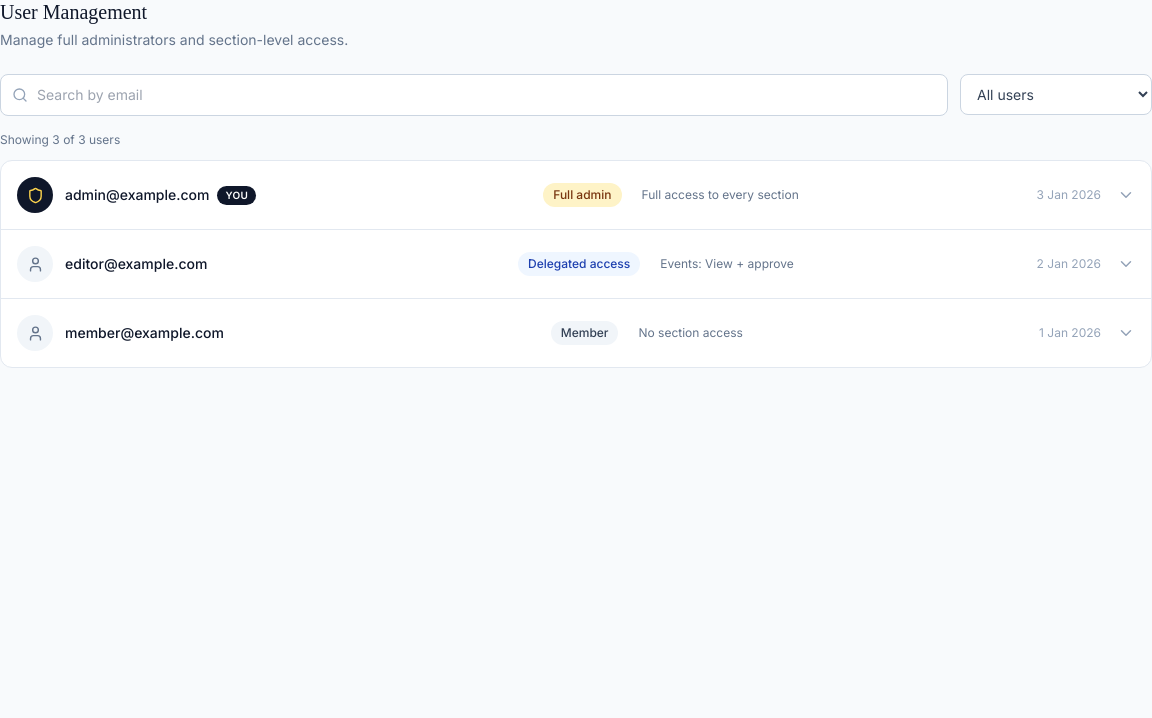
Test: AdminUsersPage › starts with compact rows and keeps only one user expanded
Expected: the text "Roster and officer records" is not shown
Click the button with aria-label "Manage access for editor@example.com" at (576, 264), box [1,230,1151,298]
(page scrolled)
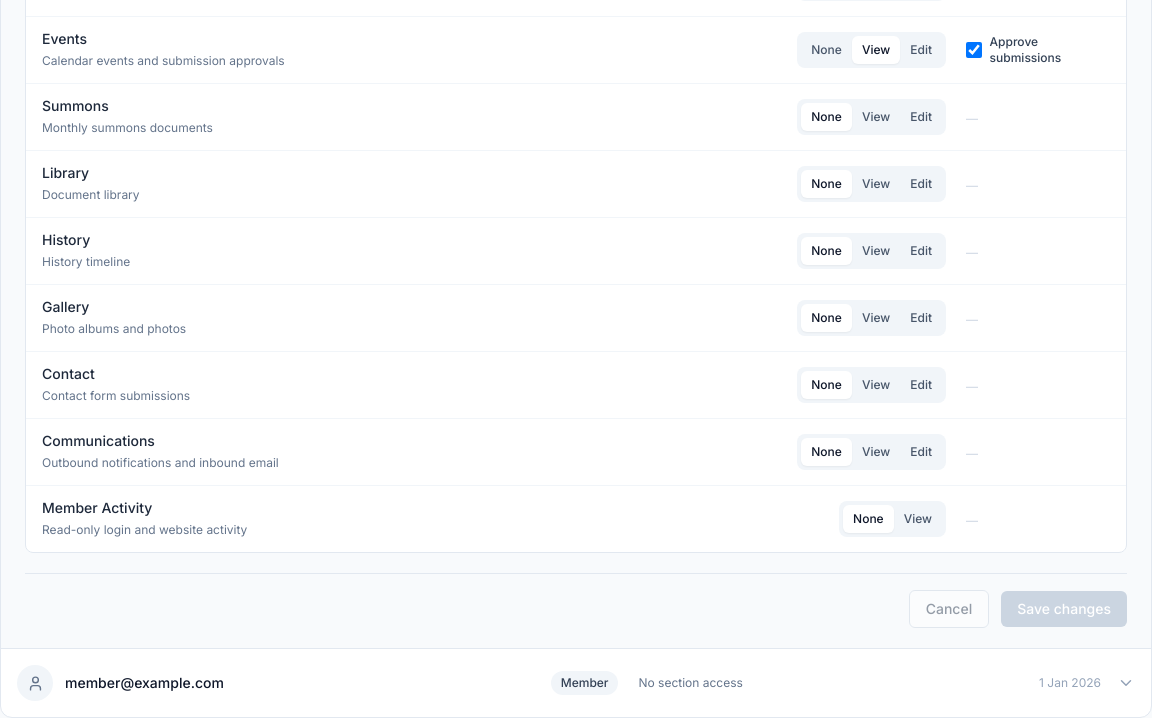
Click the button with aria-label "Manage access for member@example.com" at (576, 683), box [1,649,1151,717]
(page scrolled)
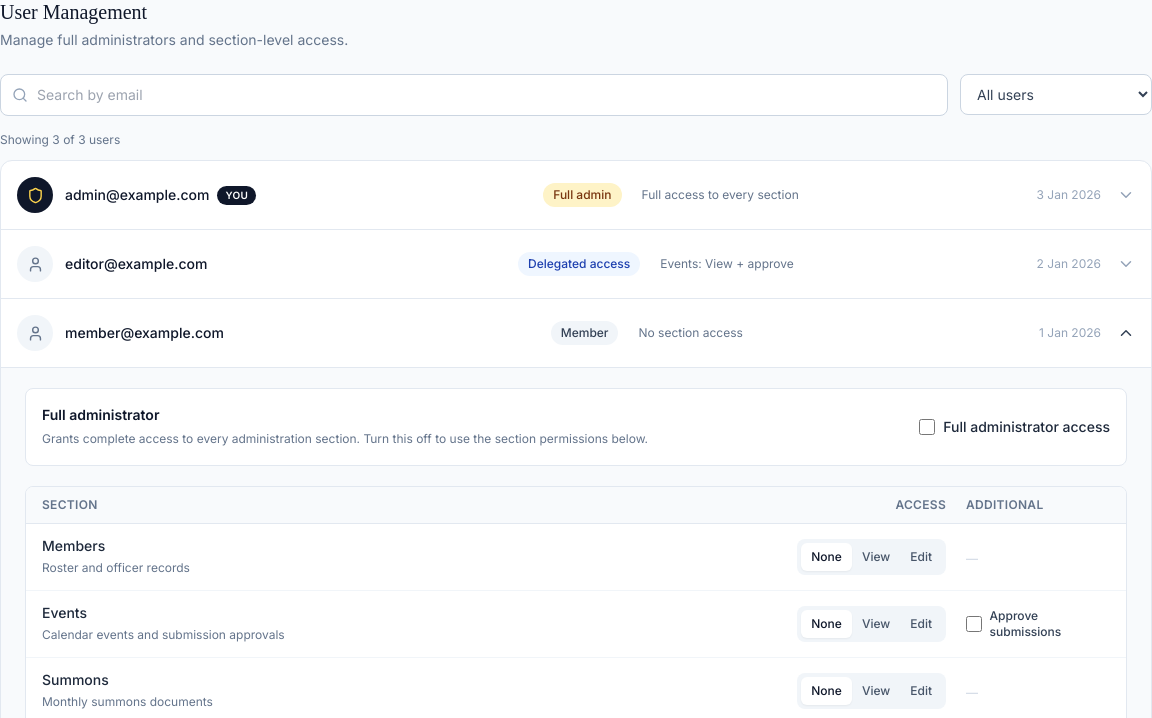
Expected: the text "Roster and officer records" is shown once, [42,560,190,575]
Expected: the button with aria-label "Manage access for editor@example.com" is collapsed, [1,230,1151,298]
Expected: the button with aria-label "Manage access for member@example.com" is expanded, [1,299,1151,367]
